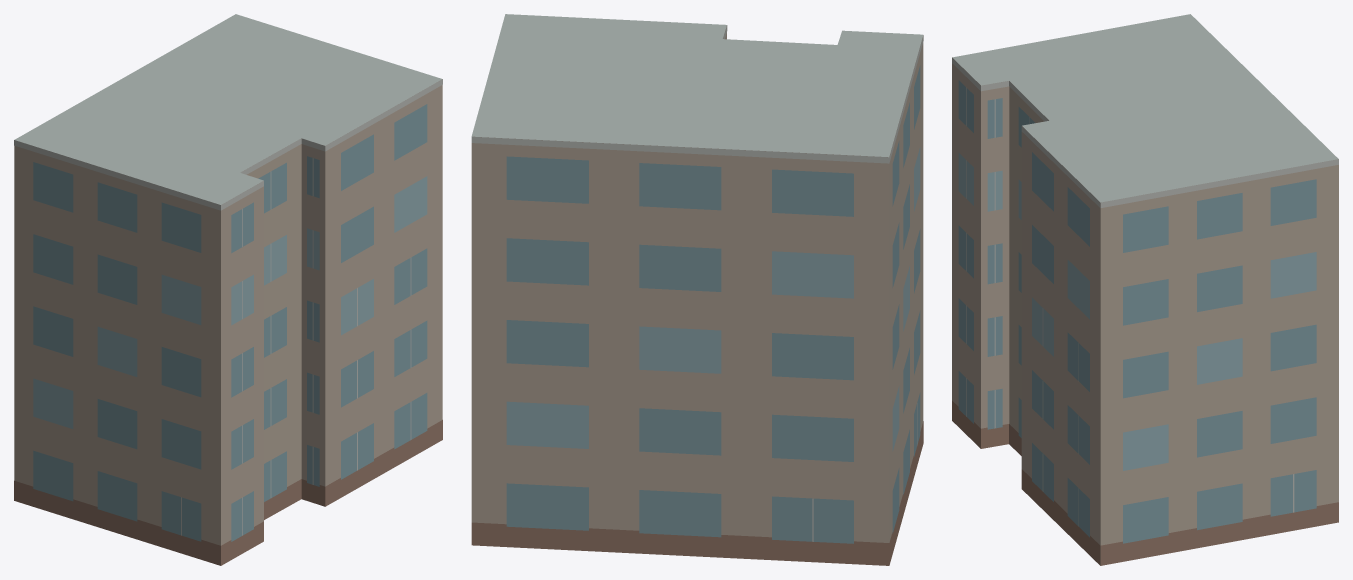
The model's file is survey-upis-32596342.glb.
3 views of the same model, side by side, from view 1: azimuth 30°, elevation 25°; view 2: azimuth 150°, elevation 25°; view 3: azimuth 270°, elevation 25° (orthographic). The views are drawn at different scales.
Visible parts, largest first — view 1: survey-upis-32596342.tmp; view 2: survey-upis-32596342.tmp; view 3: survey-upis-32596342.tmp.
Part boxes in pixels (x1=…): survey-upis-32596342.tmp: x1=14, y1=14, x2=442, y2=565; survey-upis-32596342.tmp: x1=471, y1=14, x2=923, y2=565; survey-upis-32596342.tmp: x1=952, y1=14, x2=1338, y2=565.
Bounding box in the file's own units: 17.37 × 15.6 × 15.06.
